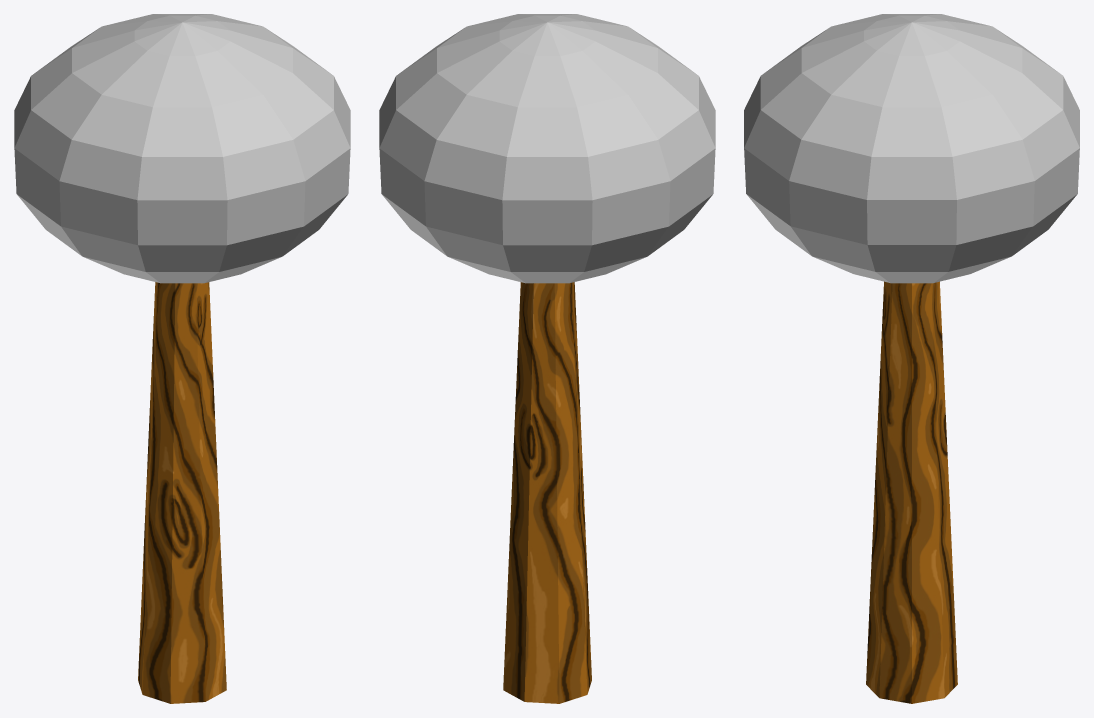
The model's file is Arbol 1.fbx.
3 views of the same model, side by side, from view 1: azimuth 30°, elevation 25°; view 2: azimuth 150°, elevation 25°; view 3: azimuth 270°, elevation 25° (orthographic).
Parts seen in each view (by area): view 1: Copa, Tronco; view 2: Copa, Tronco; view 3: Copa, Tronco.
Boxes of the visible parts, x1,y1,x2,y2 form: Copa: [14, 14, 350, 283]; Tronco: [138, 282, 226, 703]; Copa: [379, 14, 715, 283]; Tronco: [503, 282, 591, 703]; Copa: [744, 14, 1079, 283]; Tronco: [866, 281, 957, 703].
Bounding box in the file's own units: 5.9 × 12.83 × 5.9.
